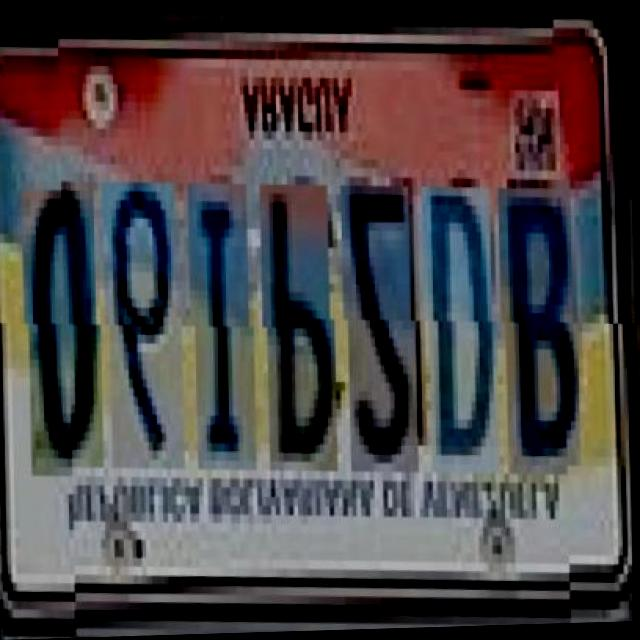2: (348, 182, 420, 473)
6: (109, 180, 186, 470)
b: (505, 185, 582, 475)
d: (428, 184, 501, 474)
i: (194, 181, 258, 471)
o: (27, 179, 104, 469)
p: (266, 182, 338, 472)
